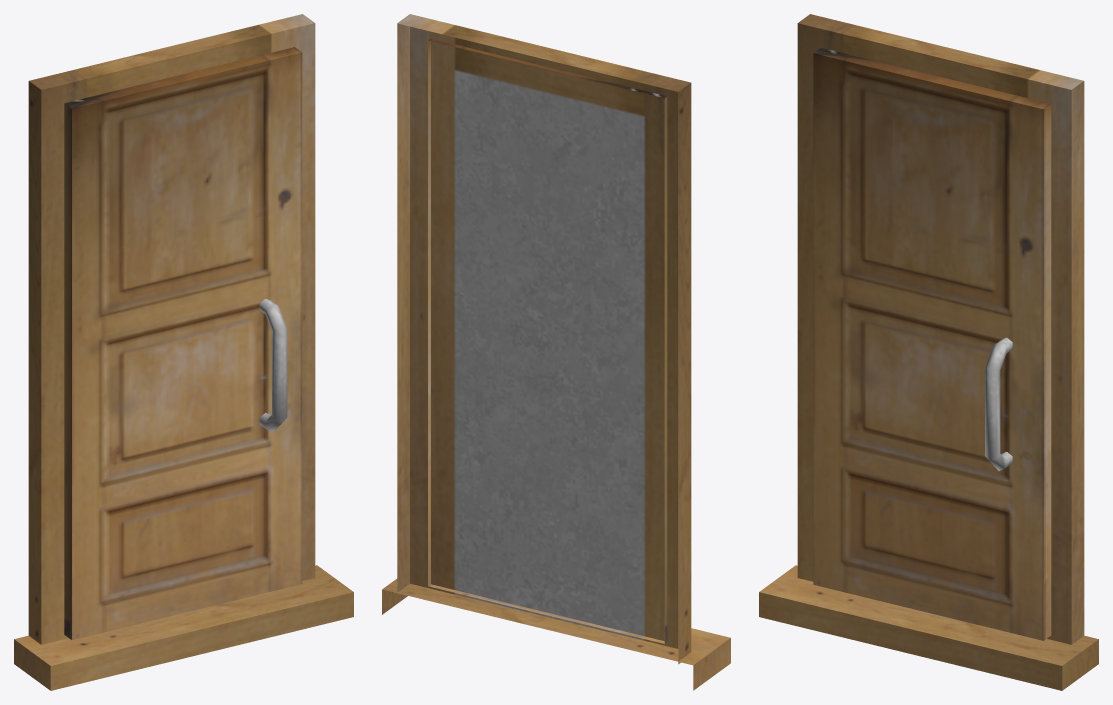
File: Door.FBX
3 renders of one model, left to right at view 1: azimuth 30°, elevation 25°; view 2: azimuth 150°, elevation 25°; view 3: azimuth 330°, elevation 25°, orthographic. The views are drawn at different scales.
Parts seen in each view (by area): view 1: Door; view 2: Door; view 3: Door.
Boxes of the visible parts, <box> form: Door: <box>14,14,353,690</box>; Door: <box>382,14,730,690</box>; Door: <box>759,14,1098,690</box>.
Size of the model in its own units: 80.73 by 148 by 17.59.
